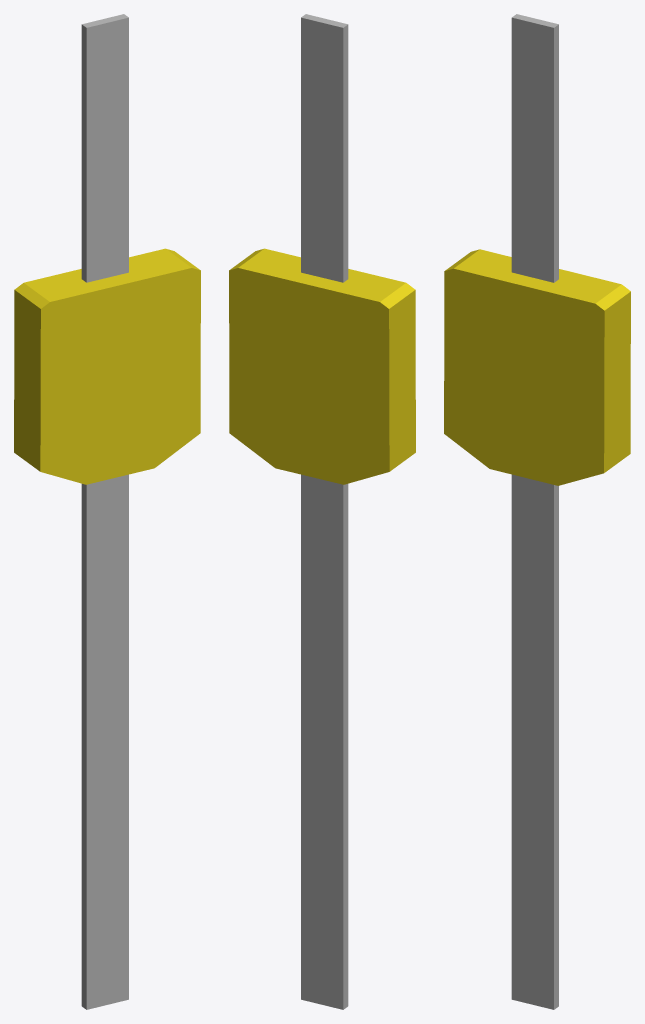
Rendered from metronom hand.fbx.
3 views of the same model, side by side, from view 1: azimuth 30°, elevation 25°; view 2: azimuth 150°, elevation 25°; view 3: azimuth 330°, elevation 25° (orthographic).
Parts seen in each view (by area): view 1: Cube.001, Cube.002; view 2: Cube.001, Cube.002; view 3: Cube.001, Cube.002.
Boxes of the visible parts, x1,y1,x2,y2 form: Cube.001: [81, 14, 128, 1009]; Cube.002: [14, 248, 200, 484]; Cube.001: [301, 14, 348, 1009]; Cube.002: [229, 248, 415, 484]; Cube.001: [511, 14, 558, 1009]; Cube.002: [444, 249, 630, 485].
Size of the model in its own units: 114 by 665 by 32.4.
